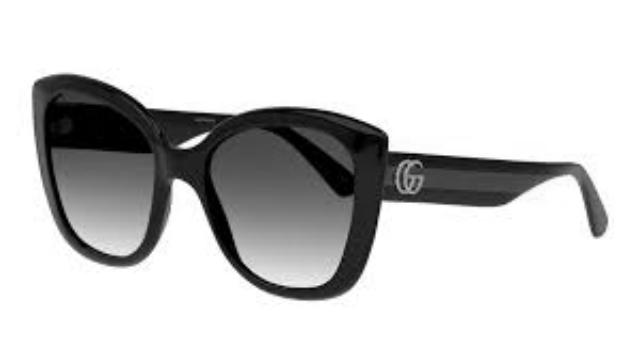Gucci: (392, 154, 433, 198)
